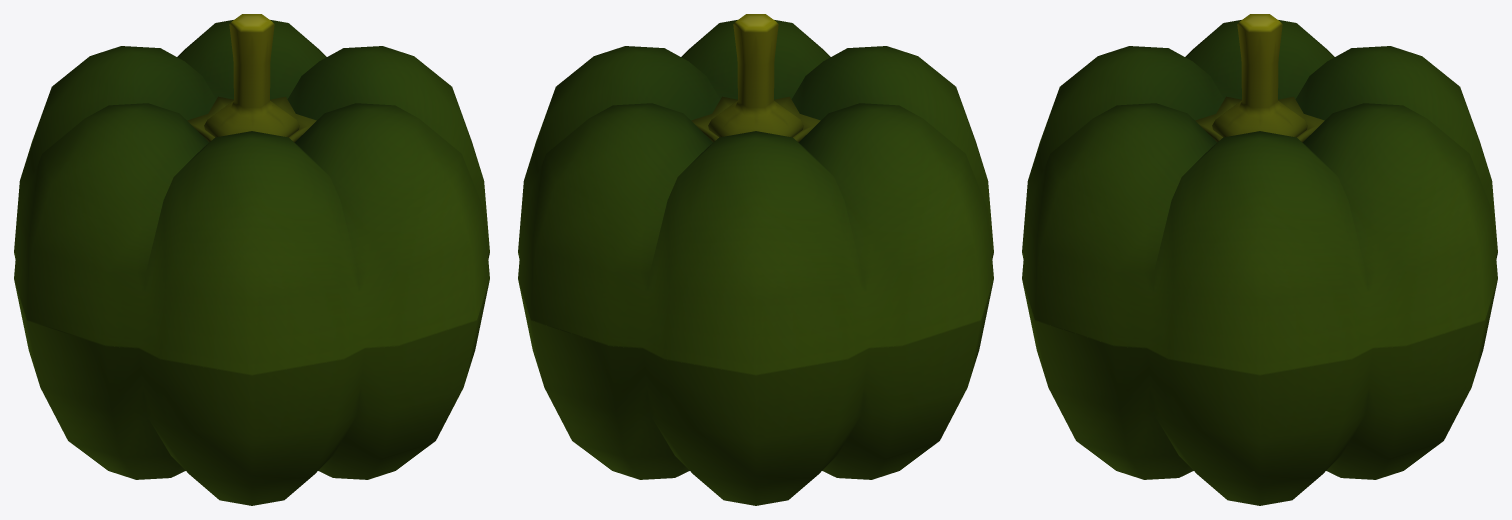
The model's file is Pepper Green.fbx.
3 views of the same model, side by side, from view 1: azimuth 30°, elevation 25°; view 2: azimuth 150°, elevation 25°; view 3: azimuth 270°, elevation 25° (orthographic).
Parts seen in each view (by area): view 1: Pepper_G_Whole, Pepper_G_Half_Top, Pepper_G_Half_Botton; view 2: Pepper_G_Whole, Pepper_G_Half_Top, Pepper_G_Half_Botton; view 3: Pepper_G_Whole, Pepper_G_Half_Top, Pepper_G_Half_Botton.
Part boxes in pixels (<box>): Pepper_G_Whole: <box>14,14,489,505</box>; Pepper_G_Half_Top: <box>14,181,489,374</box>; Pepper_G_Half_Botton: <box>14,253,489,439</box>; Pepper_G_Whole: <box>518,14,993,505</box>; Pepper_G_Half_Top: <box>518,181,993,374</box>; Pepper_G_Half_Botton: <box>518,253,993,439</box>; Pepper_G_Whole: <box>1022,14,1497,505</box>; Pepper_G_Half_Top: <box>1022,181,1497,374</box>; Pepper_G_Half_Botton: <box>1022,253,1497,439</box>.
Size of the model in its own units: 2.3 by 2.08 by 2.11.
